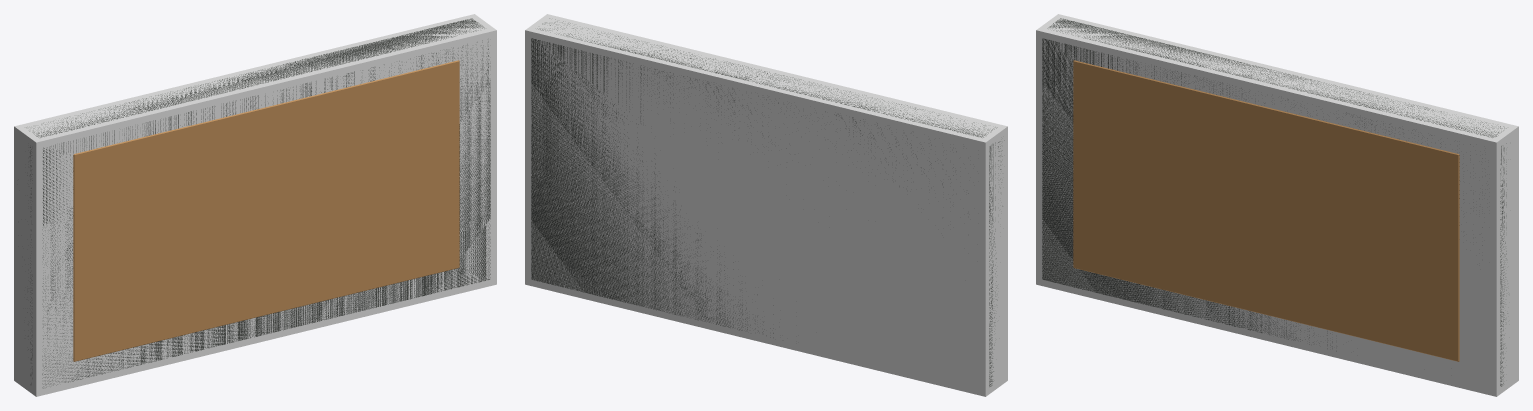
The model's file is signage_commercial.glb.
3 views of the same model, side by side, from view 1: azimuth 30°, elevation 25°; view 2: azimuth 150°, elevation 25°; view 3: azimuth 330°, elevation 25° (orthographic).
Parts seen in each view (by area): view 1: MESH_Inset, COL_signage, MESH_Frame; view 2: COL_signage, MESH_Frame; view 3: MESH_Inset, COL_signage, MESH_Frame.
Part boxes in pixels (box(x1,y1,x2,y2)): MESH_Inset: box(73, 60, 459, 361); COL_signage: box(14, 14, 496, 396); MESH_Frame: box(26, 18, 490, 388); COL_signage: box(525, 14, 1007, 396); MESH_Frame: box(531, 18, 1004, 386); MESH_Inset: box(1073, 60, 1459, 361); COL_signage: box(1036, 14, 1518, 396); MESH_Frame: box(1042, 18, 1507, 386).
Bounding box in the file's own units: 0.72 × 0.38 × 0.0612.
